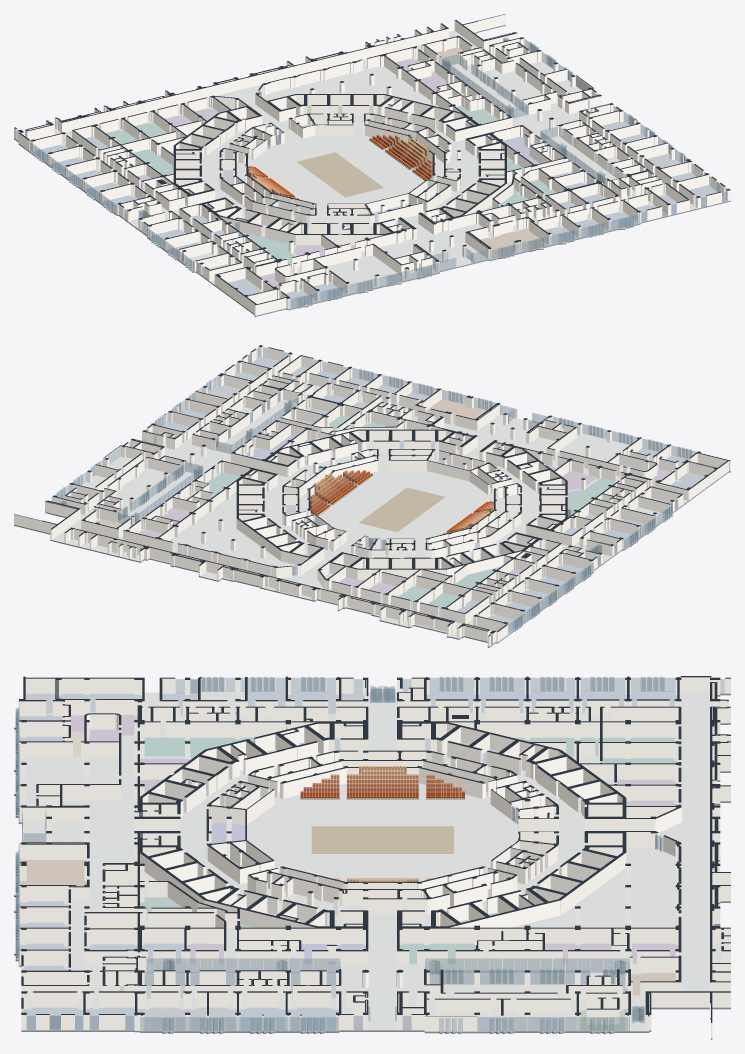
The model's file is mac-campus-ff01.glb.
3 views of the same model, one above another, from view 1: azimuth 30°, elevation 25°; view 2: azimuth 150°, elevation 25°; view 3: azimuth 270°, elevation 25° (orthographic). The views are drawn at different scales.
Parts seen in each view (by area): view 1: Walls (FF-01 CAD wall layers), Floor slab (derived footprint), Rooms, Glazing (FF-01 CAD glazing layers), Lotus Arena; view 2: Walls (FF-01 CAD wall layers), Floor slab (derived footprint), Rooms, Glazing (FF-01 CAD glazing layers), Lotus Arena; view 3: Walls (FF-01 CAD wall layers), Floor slab (derived footprint), Rooms, Glazing (FF-01 CAD glazing layers), Lotus Arena.
Part boxes in pixels (x1=…): Walls (FF-01 CAD wall layers): x1=14, y1=14, x2=730, y2=315; Floor slab (derived footprint): x1=14, y1=25, x2=730, y2=316; Rooms: x1=32, y1=47, x2=726, y2=307; Glazing (FF-01 CAD glazing layers): x1=16, y1=37, x2=727, y2=308; Lotus Arena: x1=248, y1=134, x2=432, y2=199; Walls (FF-01 CAD wall layers): x1=14, y1=345, x2=730, y2=646; Floor slab (derived footprint): x1=14, y1=356, x2=730, y2=647; Rooms: x1=63, y1=356, x2=703, y2=632; Glazing (FF-01 CAD glazing layers): x1=52, y1=347, x2=696, y2=644; Lotus Arena: x1=310, y1=470, x2=493, y2=534; Walls (FF-01 CAD wall layers): x1=19, y1=676, x2=730, y2=1038; Floor slab (derived footprint): x1=14, y1=690, x2=730, y2=1039; Rooms: x1=19, y1=692, x2=678, y2=1030; Glazing (FF-01 CAD glazing layers): x1=15, y1=676, x2=724, y2=1032; Lotus Arena: x1=300, y1=766, x2=465, y2=882.
Bounding box in the file's own units: 137 × 3.41 × 120.
